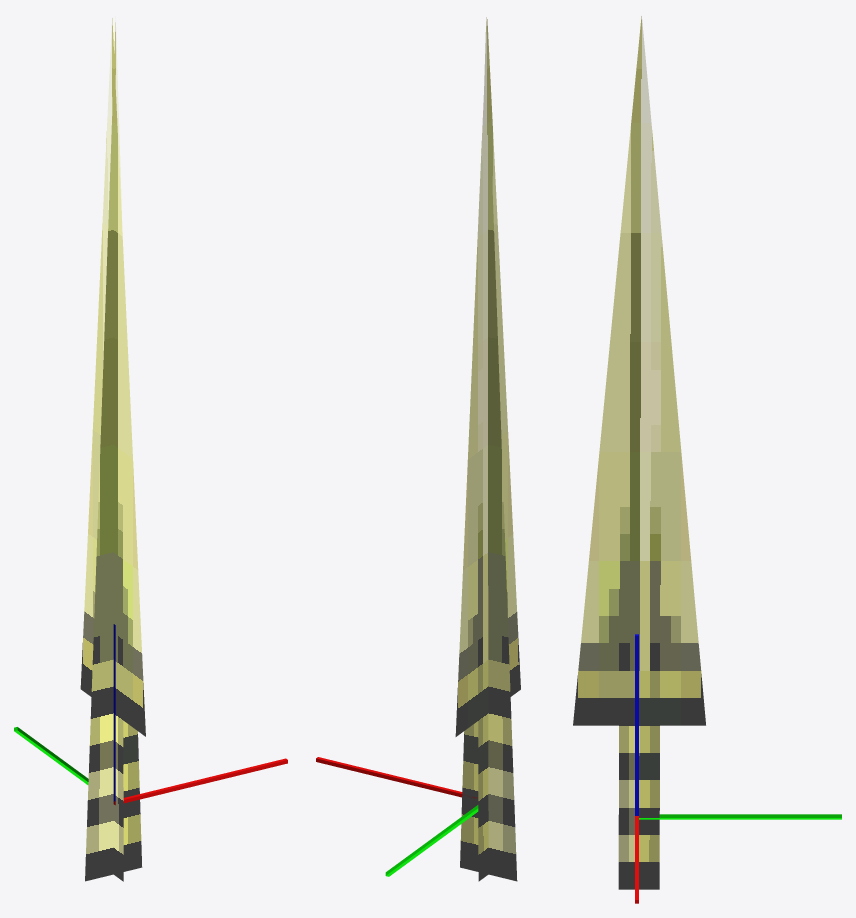
Rendered from sword.glb.
The picture shows the model from 3 angles, left to right: view 1: azimuth 30°, elevation 25°; view 2: azimuth 150°, elevation 25°; view 3: azimuth 270°, elevation 25°; orthographic projection.
Visible parts, largest first — view 1: attachments g sword bronzeModel, Dummy_hotspot; view 2: attachments g sword bronzeModel, Dummy_hotspot; view 3: attachments g sword bronzeModel, Dummy_hotspot.
Boxes of the visible parts, left/top/right/bottom form: attachments g sword bronzeModel: left=80, top=16, right=145, bottom=881; Dummy_hotspot: left=14, top=624, right=287, bottom=805; attachments g sword bronzeModel: left=455, top=17, right=520, bottom=881; Dummy_hotspot: left=316, top=757, right=478, bottom=876; attachments g sword bronzeModel: left=573, top=16, right=705, bottom=889; Dummy_hotspot: left=635, top=634, right=841, bottom=903.
Bounding box in the file's own units: 0.2915 × 1.19 × 0.3511.
Materials: 2 (1 with a texture image).
